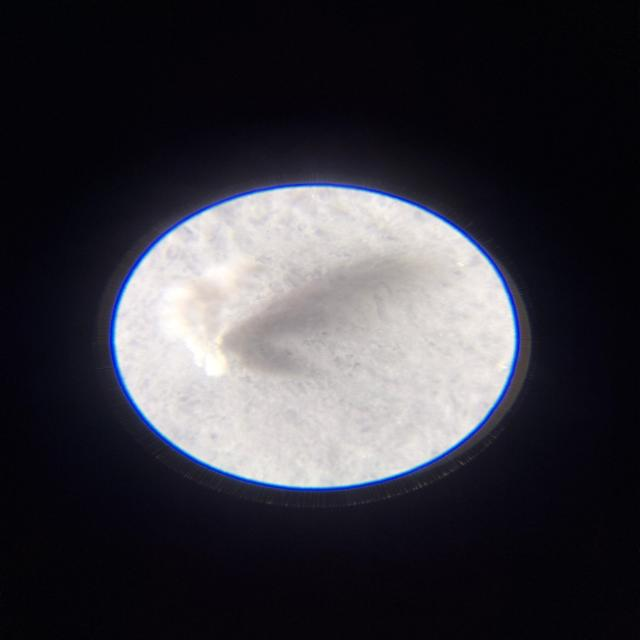microplastic_type_1: (159, 259, 260, 377)
